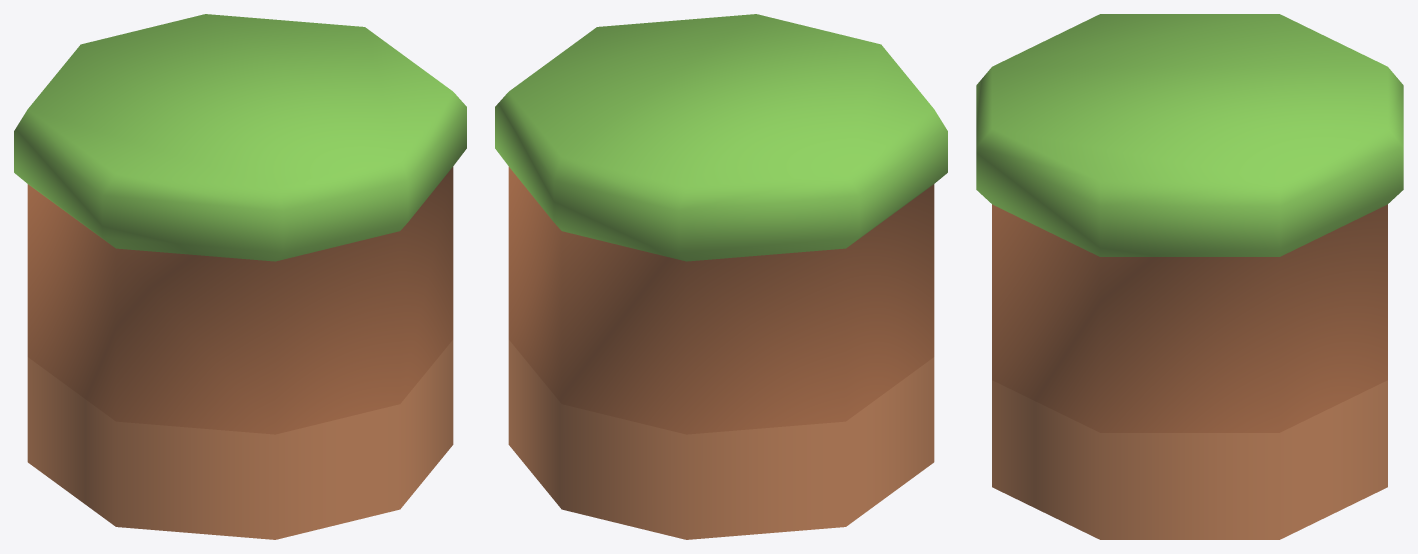
Rendered from mini_tile_top.glb.
The picture shows the model from 3 angles, left to right: view 1: azimuth 30°, elevation 25°; view 2: azimuth 150°, elevation 25°; view 3: azimuth 270°, elevation 25°; orthographic projection.
Visible parts, largest first — view 1: mini_tile_top; view 2: mini_tile_top; view 3: mini_tile_top.
Part boxes in pixels (x1,y1,x2,y2): mini_tile_top: (14,14,466,539); mini_tile_top: (495,14,947,539); mini_tile_top: (976,14,1403,539).
Size of the model in its own units: 0.54 by 0.5 by 0.5398.
